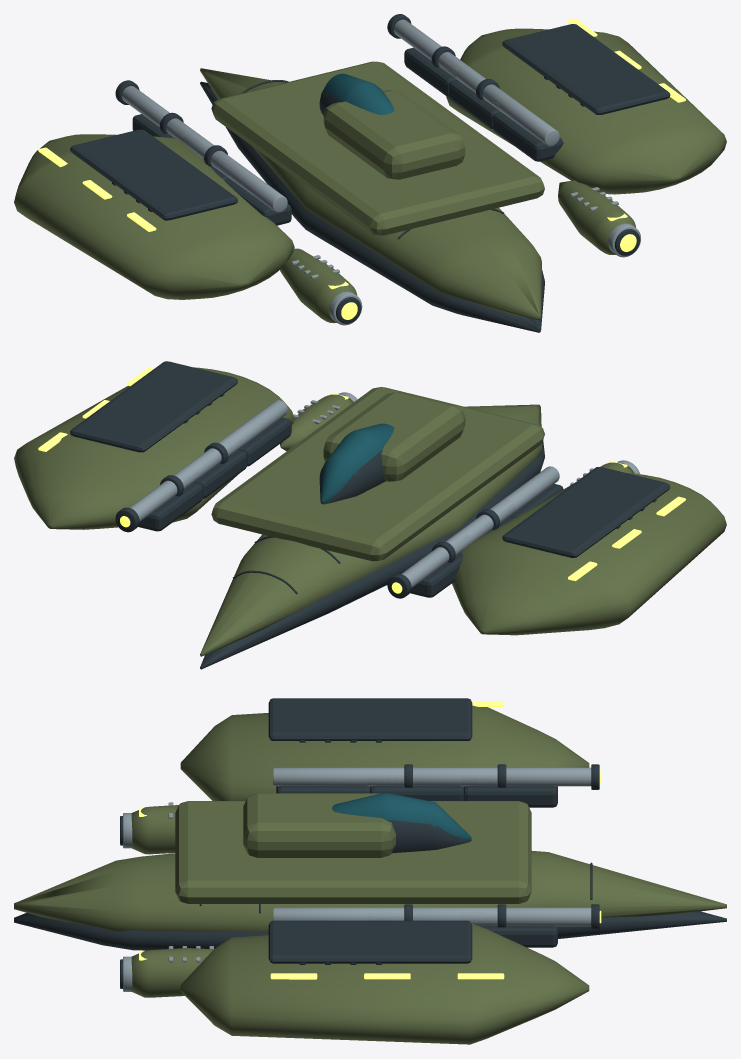
File: boss-3-p2.glb
The picture shows the model from 3 angles, top to bottom: view 1: azimuth 30°, elevation 25°; view 2: azimuth 150°, elevation 25°; view 3: azimuth 270°, elevation 25°; orthographic projection. The views are drawn at different scales.
Visible parts, largest first — view 1: SM_Hull, SM_Shield_Left, SM_Shield_Right, SM_Bay_Left, SM_Bay_Right, SM_Weapon_Right, SM_Weapon_Left, SM_Engine_Right, SM_Engine_Left; view 2: SM_Hull, SM_Shield_Left, SM_Shield_Right, SM_Bay_Right, SM_Bay_Left, SM_Weapon_Right, SM_Weapon_Left, SM_Engine_Right; view 3: SM_Hull, SM_Shield_Right, SM_Shield_Left, SM_Weapon_Left, SM_Bay_Right, SM_Bay_Left, SM_Weapon_Right, SM_Engine_Right, SM_Engine_Left.
Part boxes in pixels (x1,y1,x2,y2): SM_Hull: (200,61,544,332); SM_Shield_Left: (14,134,294,299); SM_Shield_Right: (446,18,726,194); SM_Bay_Left: (70,129,237,220); SM_Bay_Right: (502,24,670,114); SM_Weapon_Right: (387,14,563,161); SM_Weapon_Left: (115,80,291,225); SM_Engine_Right: (558,180,640,257); SM_Engine_Left: (280,248,362,325); SM_Hull: (200,387,544,669); SM_Shield_Left: (452,473,726,635); SM_Shield_Right: (14,367,294,529); SM_Bay_Right: (70,361,237,452); SM_Bay_Left: (502,467,670,557); SM_Weapon_Right: (115,400,291,532); SM_Weapon_Left: (387,466,563,598); SM_Engine_Right: (280,392,357,451); SM_Hull: (14,793,726,950); SM_Shield_Right: (180,923,589,1044); SM_Shield_Left: (180,701,589,800); SM_Weapon_Left: (273,764,601,807); SM_Bay_Right: (268,920,472,963); SM_Bay_Left: (268,698,472,740); SM_Weapon_Right: (273,904,601,947); SM_Engine_Right: (120,946,213,997); SM_Engine_Left: (120,802,178,854).
Bounding box in the file's own units: 8.86 × 1.83 × 8.4.
